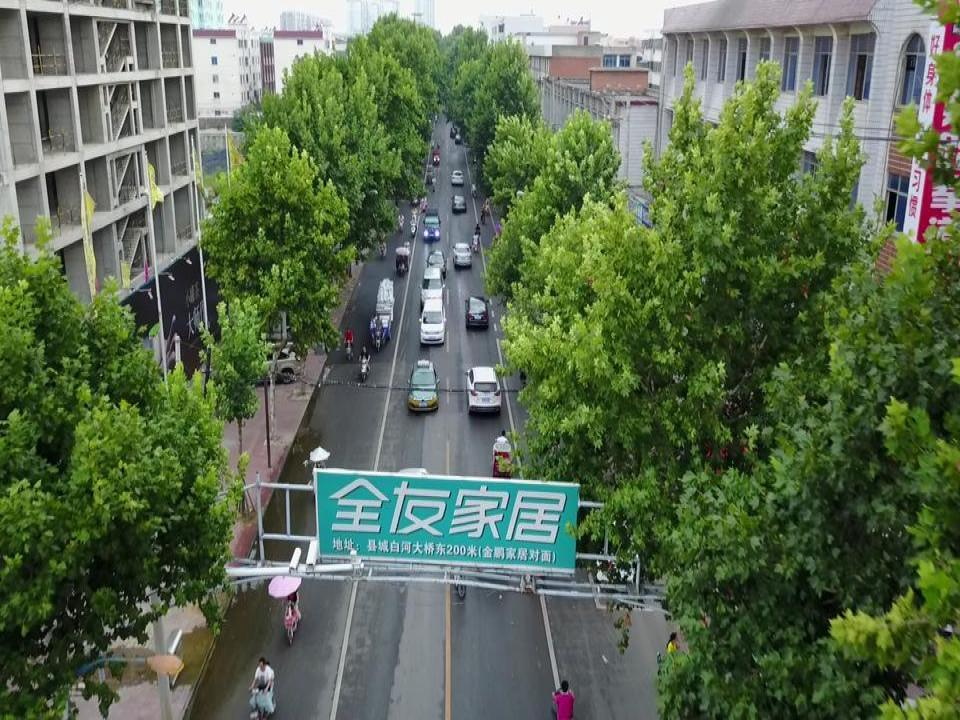car: (582, 479, 646, 581), (209, 338, 301, 386), (389, 463, 434, 560), (464, 363, 505, 417), (405, 358, 440, 413), (417, 297, 446, 347), (461, 291, 492, 329), (417, 266, 446, 306), (422, 248, 448, 283), (423, 207, 441, 241), (450, 240, 472, 267), (451, 194, 467, 214), (451, 169, 466, 187)
